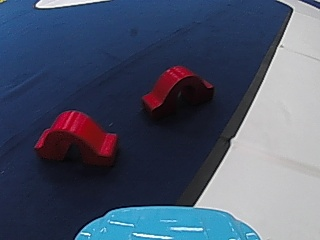bridge: (31, 106, 123, 166), (135, 62, 216, 120)
